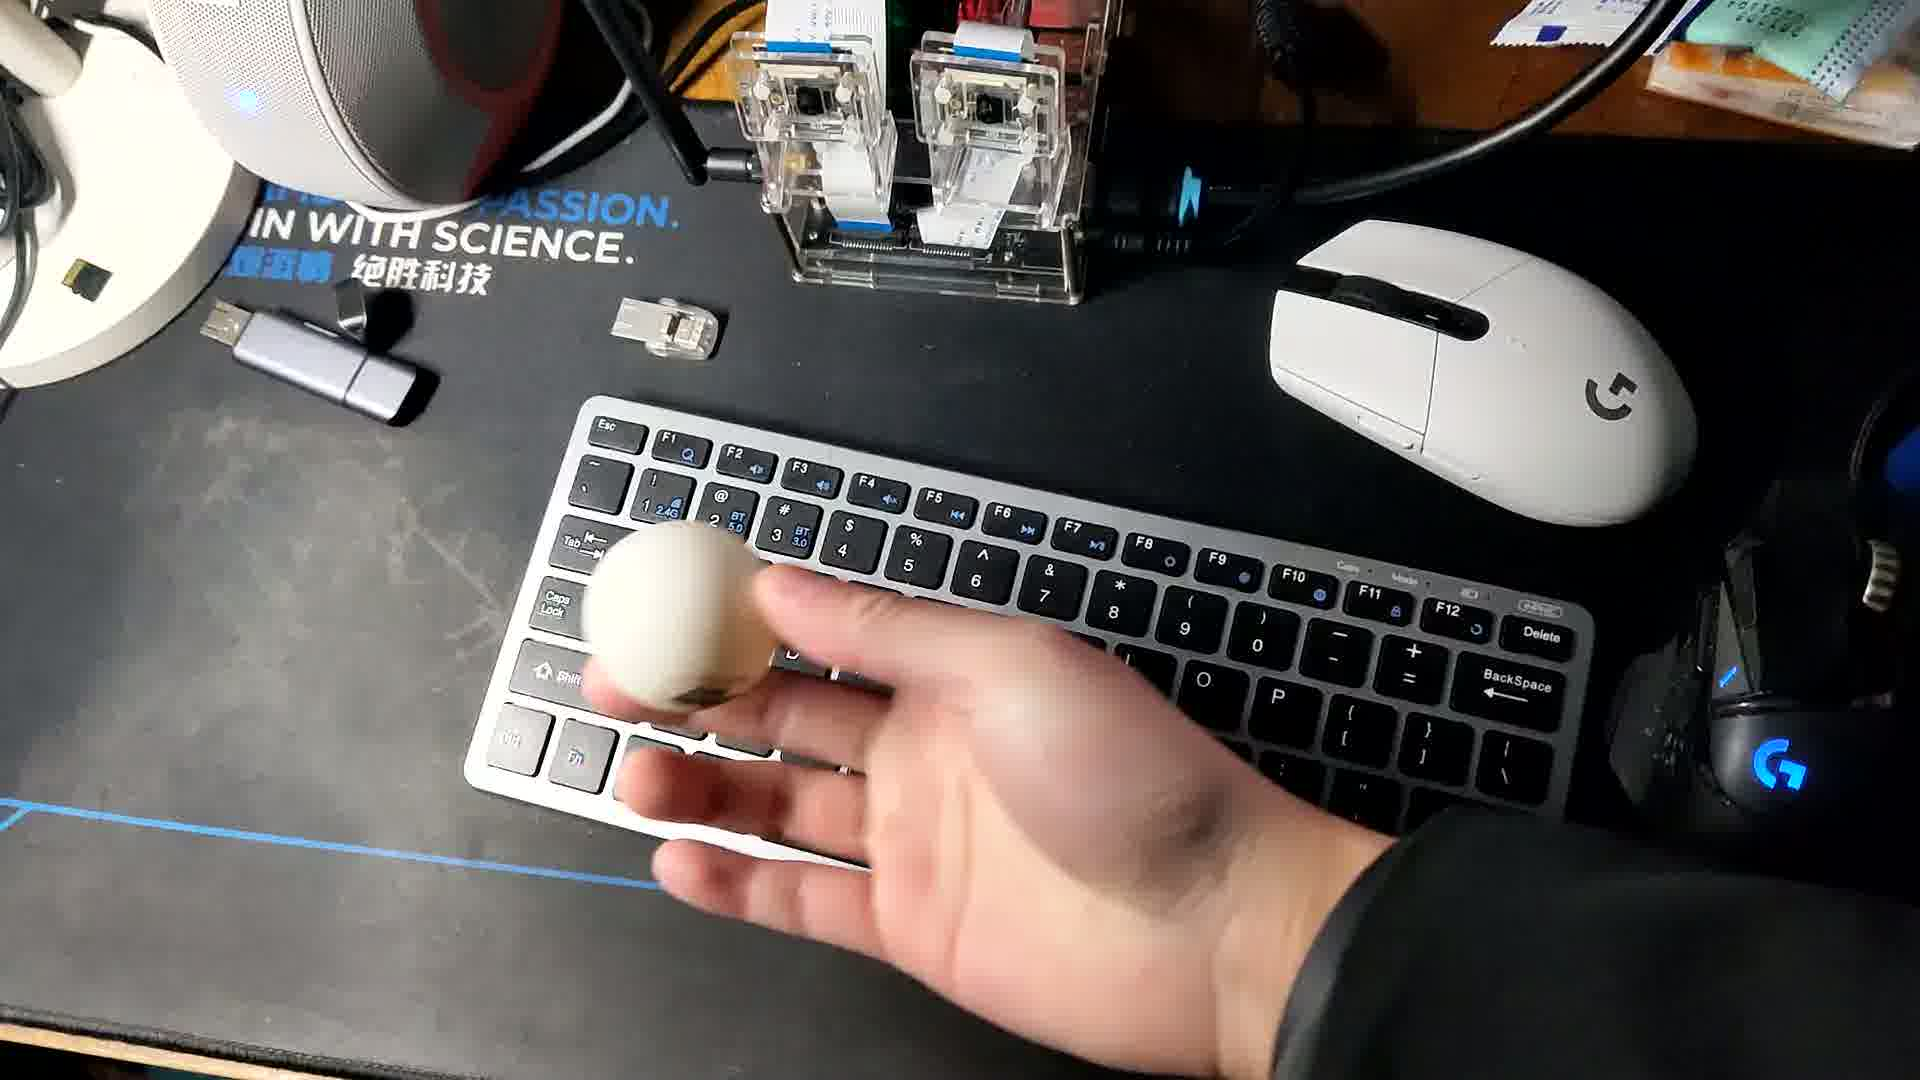Ball: (585, 524, 782, 717)
